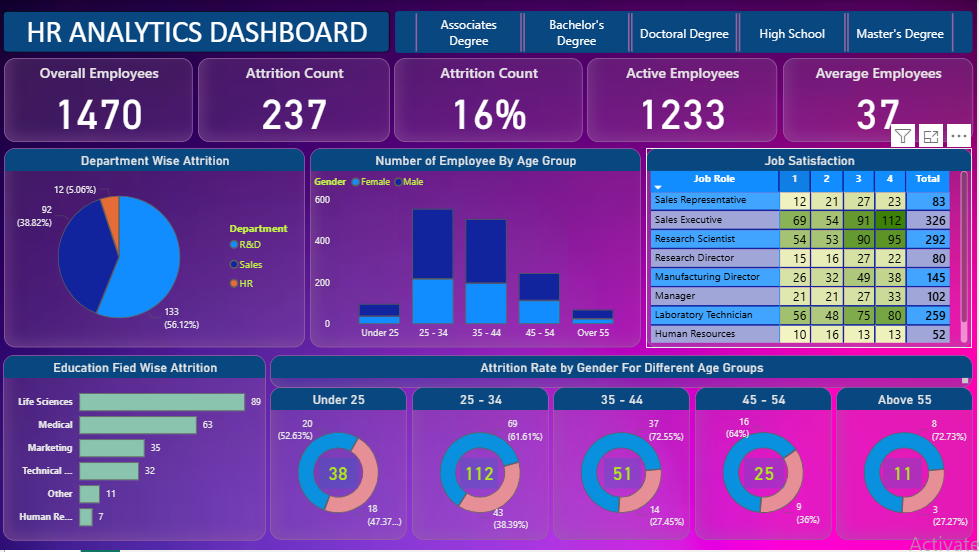

Layout of this report page (visuals, bound fields, positions):
{"tool":"powerbi","page":{"name":"Page 1","canvas":[1280,720],"ordinal":0},"visuals":[{"type":"card","title":"Overall Employees","fields":{"Values":["Sum(HR data.Employee Count)"]},"box":[7.1,75.7,247.1,110],"z":0},{"type":"card","title":"Attrition Count","fields":{"Values":["Sum(HR data.Attrition_Count)"]},"box":[260,75.7,251.4,110],"z":1000},{"type":"card","title":"Attrition Count","fields":{"Values":["HR data.Attrition Rate"]},"box":[517.1,75.7,247.1,110],"z":2000},{"type":"card","title":"Active Employees","fields":{"Values":["HR data.Active Employees"]},"box":[770,75.7,248.6,110],"z":3000},{"type":"card","title":"Average Employees","fields":{"Values":["Avg(HR data.Age)"]},"box":[1025.7,75.7,248.6,110],"z":4000},{"type":"pieChart","title":"Department Wise Attrition","fields":{"Category":["HR data.Department"],"Y":["Sum(HR data.Attrition_Count)"]},"box":[7.1,193.2,394.3,261.4],"z":5000},{"type":"columnChart","title":"Number of Employee By Age Group","fields":{"Category":["HR data.CF_age band"],"Y":["Sum(HR data.Employee Count)"],"Series":["HR data.Gender"]},"box":[407.1,193.8,432.9,261.4],"z":6000},{"type":"pivotTable","title":"Job Satisfaction","fields":{"Rows":["HR data.Job Role"],"Values":["Sum(HR data.Employee Count)"],"Columns":["HR data.Job Satisfaction"]},"box":[847.1,193.8,427.1,261.4],"z":7000},{"type":"barChart","title":"Education Fied Wise Attrition","fields":{"Category":["HR data.Education Field"],"Y":["Sum(HR data.Attrition_Count)"]},"box":[5.7,464.3,344.3,242.9],"z":8000},{"type":"donutChart","title":"Under 25","fields":{"Category":["HR data.Gender"],"Y":["Sum(HR data.Attrition_Count)"],"Series":["HR data.CF_age band"]},"box":[354.3,507.1,178.6,200],"z":9000},{"type":"textbox","title":"Attrition Rate by Gender For Different Age Groups","box":[354.3,464.3,920,42.9],"z":10000},{"type":"donutChart","title":"25 - 34","fields":{"Category":["HR data.Gender"],"Y":["Sum(HR data.Attrition_Count)"],"Series":["HR data.CF_age band"]},"box":[540,507.1,178.6,200],"z":11000},{"type":"donutChart","title":"35 - 44","fields":{"Category":["HR data.Gender"],"Y":["Sum(HR data.Attrition_Count)"],"Series":["HR data.CF_age band"]},"box":[725.7,507.1,178.6,200],"z":12000},{"type":"donutChart","title":"45 - 54","fields":{"Category":["HR data.Gender"],"Y":["Sum(HR data.Attrition_Count)"],"Series":["HR data.CF_age band"]},"box":[911.4,507.1,178.6,200],"z":13000},{"type":"donutChart","title":"Above 55","fields":{"Category":["HR data.Gender"],"Y":["Sum(HR data.Attrition_Count)"],"Series":["HR data.CF_age band"]},"box":[1095.7,507.1,178.6,200],"z":14000},{"type":"card","fields":{"Values":["Sum(HR data.Attrition_Count)"]},"box":[418.6,600,50,40],"z":15000},{"type":"card","fields":{"Values":["Sum(HR data.Attrition_Count)"]},"box":[602.9,600,50,40],"z":16000},{"type":"card","fields":{"Values":["Sum(HR data.Attrition_Count)"]},"box":[791.4,600,48.6,40],"z":17000},{"type":"card","fields":{"Values":["Sum(HR data.Attrition_Count)"]},"box":[975.7,600,52.9,40],"z":17001},{"type":"card","fields":{"Values":["Sum(HR data.Attrition_Count)"]},"box":[1157.1,600,51.4,40],"z":17002},{"type":"textbox","title":"HR ANALYTICS DASHBOARD","box":[5.7,14.3,505.7,54.3],"z":17003},{"type":"slicer","fields":{"Values":["HR data.Education"]},"box":[518.6,14,755.7,55],"z":17004}]}

Visuals, with their boxes in screenshot pixels (x1, y1, x2, y2), scaled from the page's 1280x720 canvas onto the 979x552 screenshot:
"Overall Employees" card: <box>5,58,194,142</box>
"Attrition Count" card: <box>199,58,391,142</box>
"Attrition Count" card: <box>396,58,584,142</box>
"Active Employees" card: <box>589,58,779,142</box>
"Average Employees" card: <box>785,58,975,142</box>
"Department Wise Attrition" pieChart: <box>5,148,307,349</box>
"Number of Employee By Age Group" columnChart: <box>311,149,642,349</box>
"Job Satisfaction" pivotTable: <box>648,149,975,349</box>
"Education Fied Wise Attrition" barChart: <box>4,356,268,542</box>
"Under 25" donutChart: <box>271,389,408,542</box>
"Attrition Rate by Gender For Different Age Groups" textbox: <box>271,356,975,389</box>
"25 - 34" donutChart: <box>413,389,550,542</box>
"35 - 44" donutChart: <box>555,389,692,542</box>
"45 - 54" donutChart: <box>697,389,834,542</box>
"Above 55" donutChart: <box>838,389,975,542</box>
card - Sum(HR data.Attrition_Count): <box>320,460,358,491</box>
card - Sum(HR data.Attrition_Count): <box>461,460,499,491</box>
card - Sum(HR data.Attrition_Count): <box>605,460,642,491</box>
card - Sum(HR data.Attrition_Count): <box>746,460,787,491</box>
card - Sum(HR data.Attrition_Count): <box>885,460,924,491</box>
"HR ANALYTICS DASHBOARD" textbox: <box>4,11,391,53</box>
slicer - HR data.Education: <box>397,11,975,53</box>
